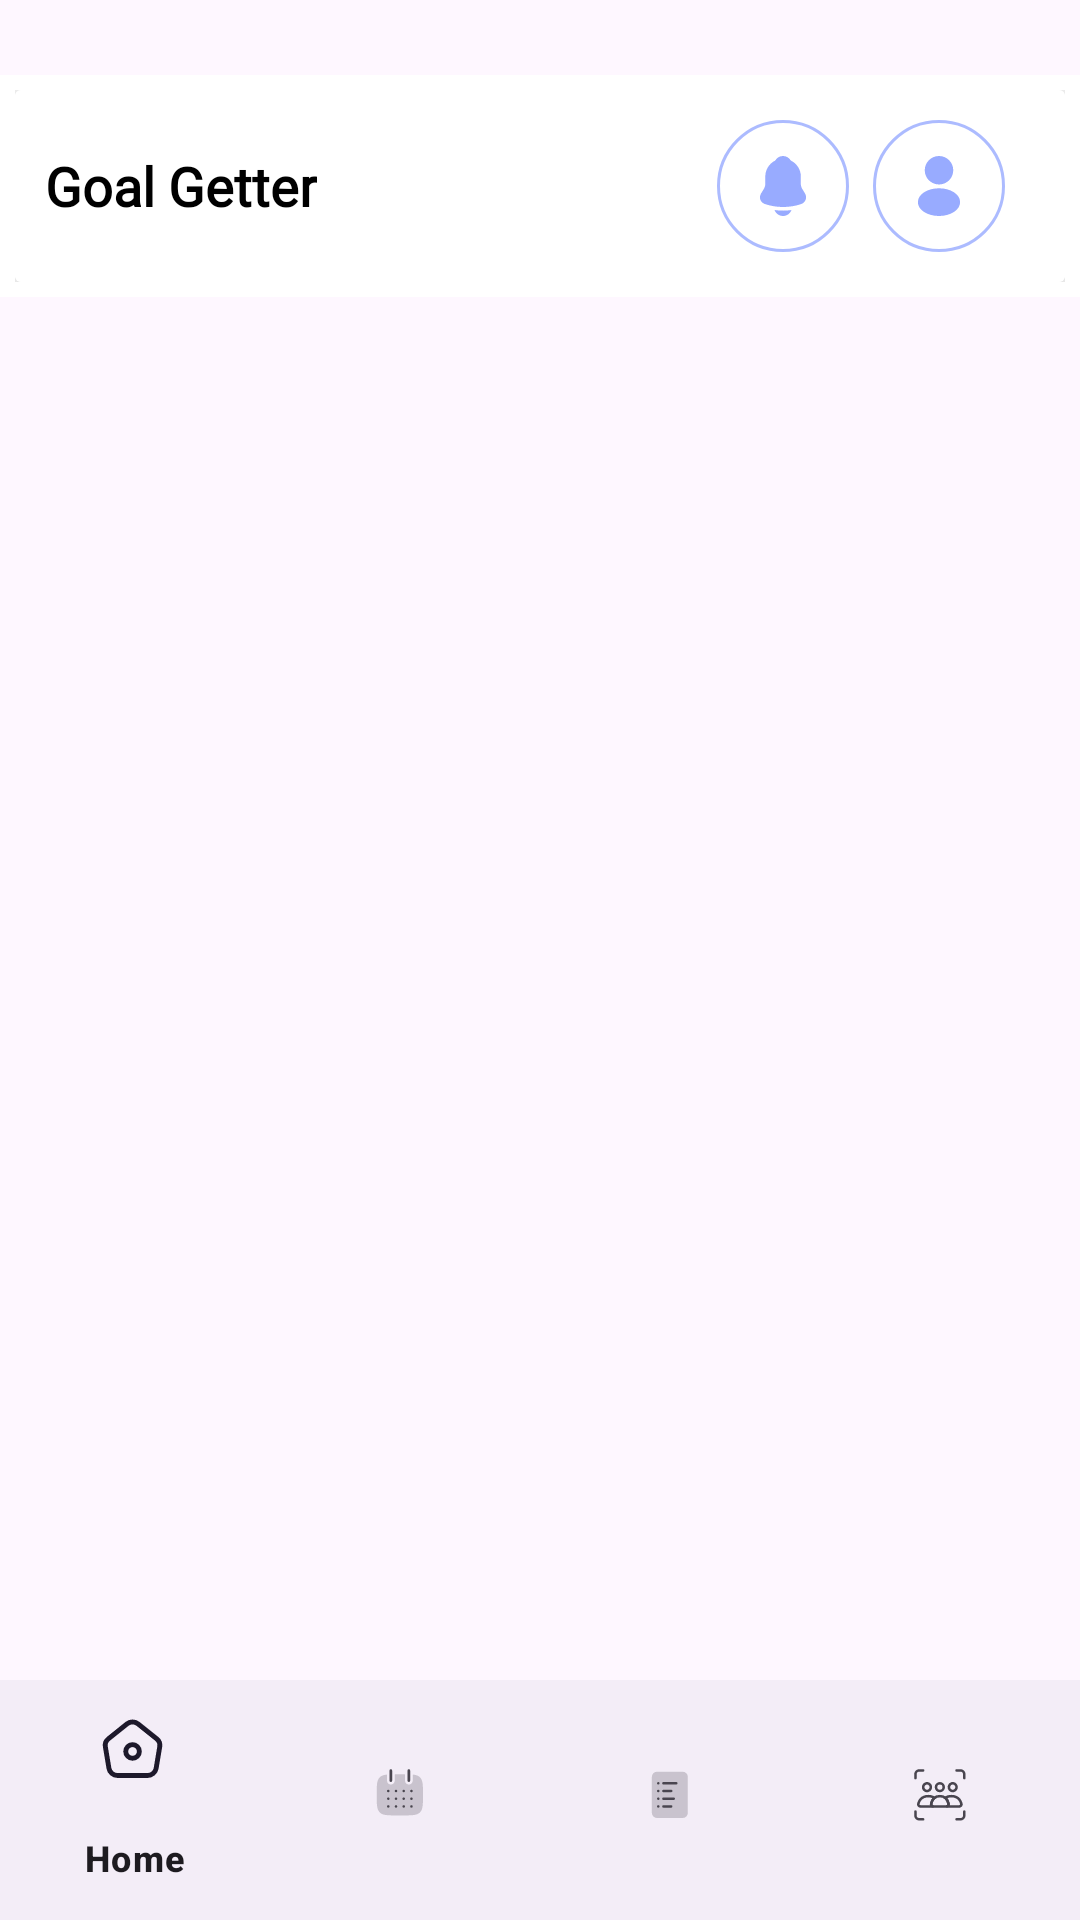

Point at icon controls on the screen. Image size 1080px×1920px, points as (x,y).
Notification Button: (783,186)
Profile Button: (939,186)
